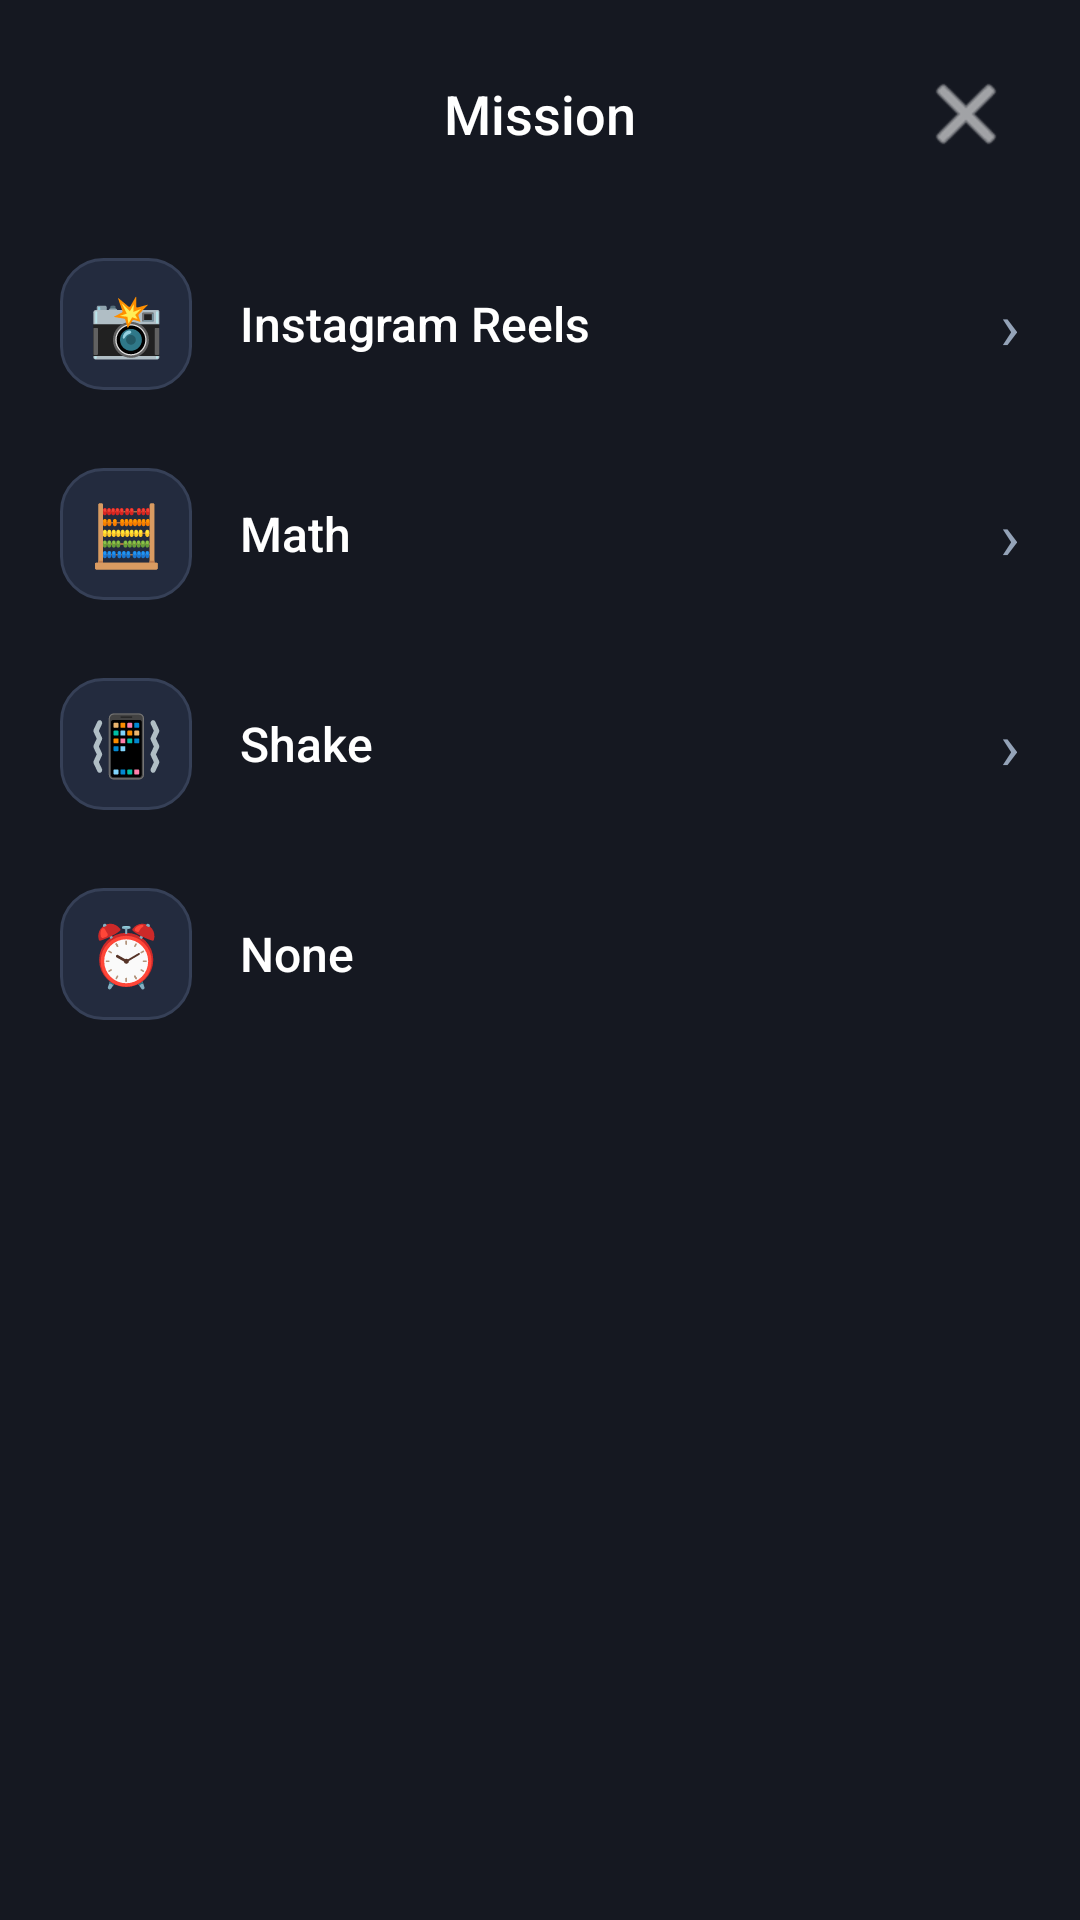

Point at icon controls on the screen. Image size 1080 × 1920, points as point (x, y).
Close: point (966, 114)
